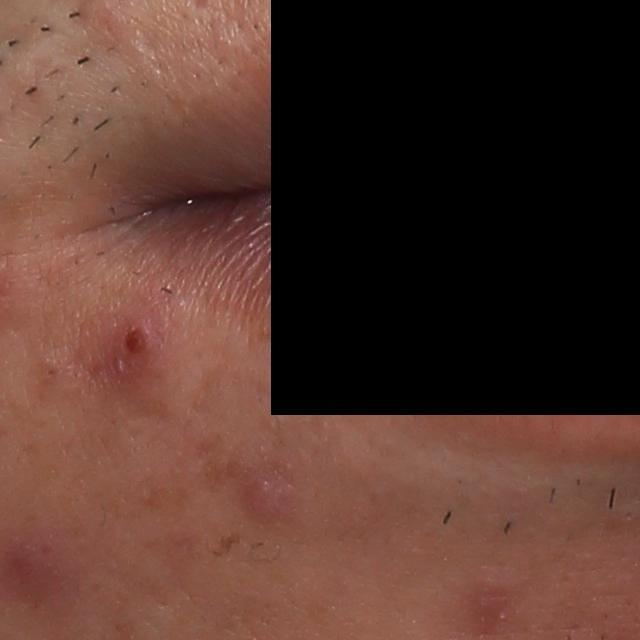comedo: (40, 362, 58, 381)
papule: (101, 315, 174, 384), (237, 476, 290, 528)
